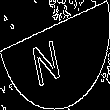N_N: (37, 25, 73, 85)
